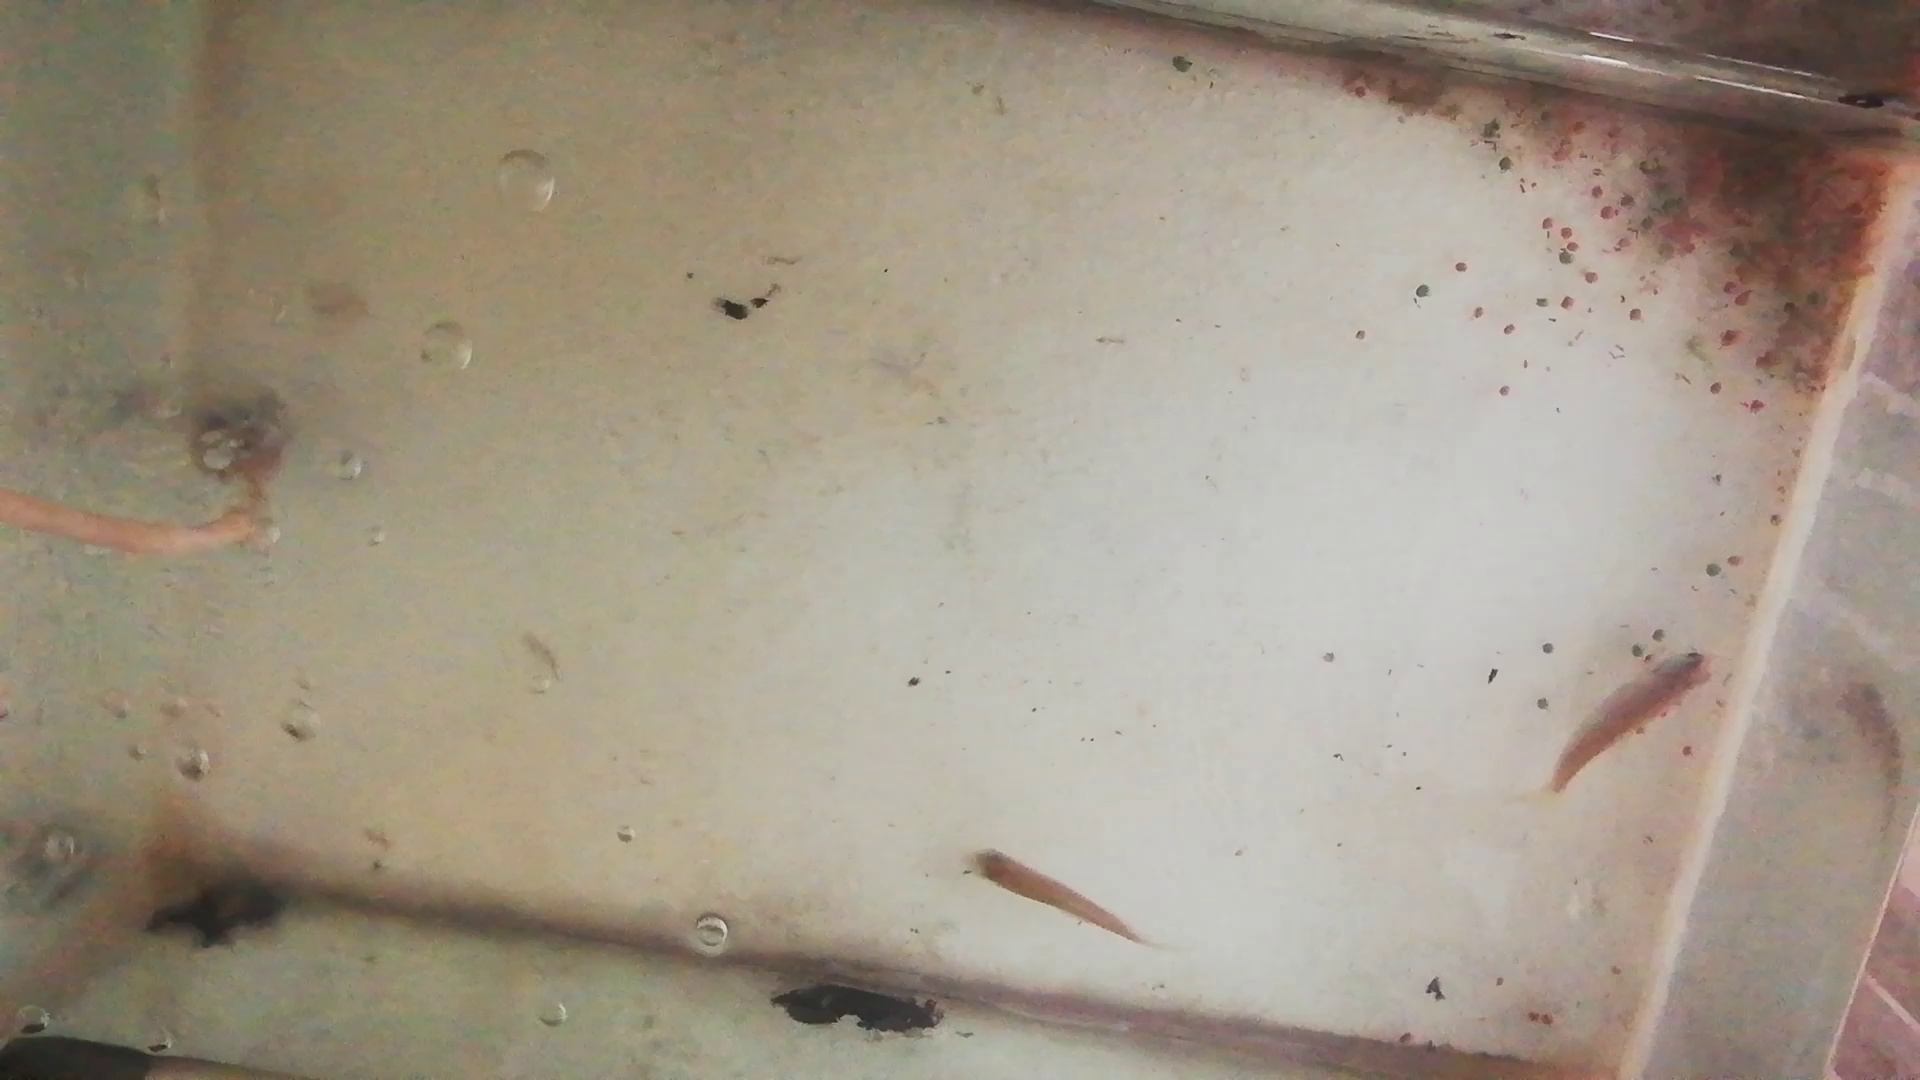fish: (1548, 653, 1722, 791), (957, 851, 1137, 942)
